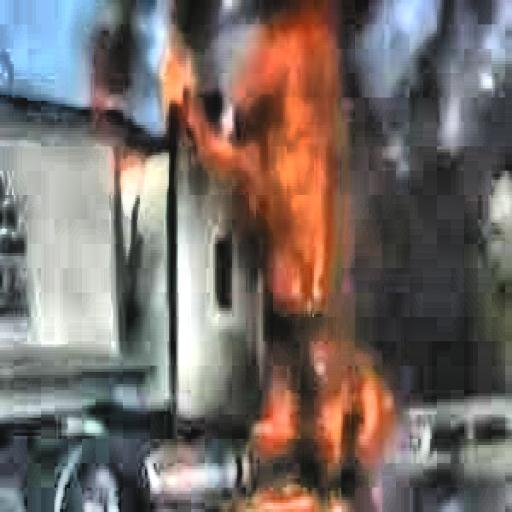fire: (167, 33, 335, 308), (256, 344, 394, 466)
